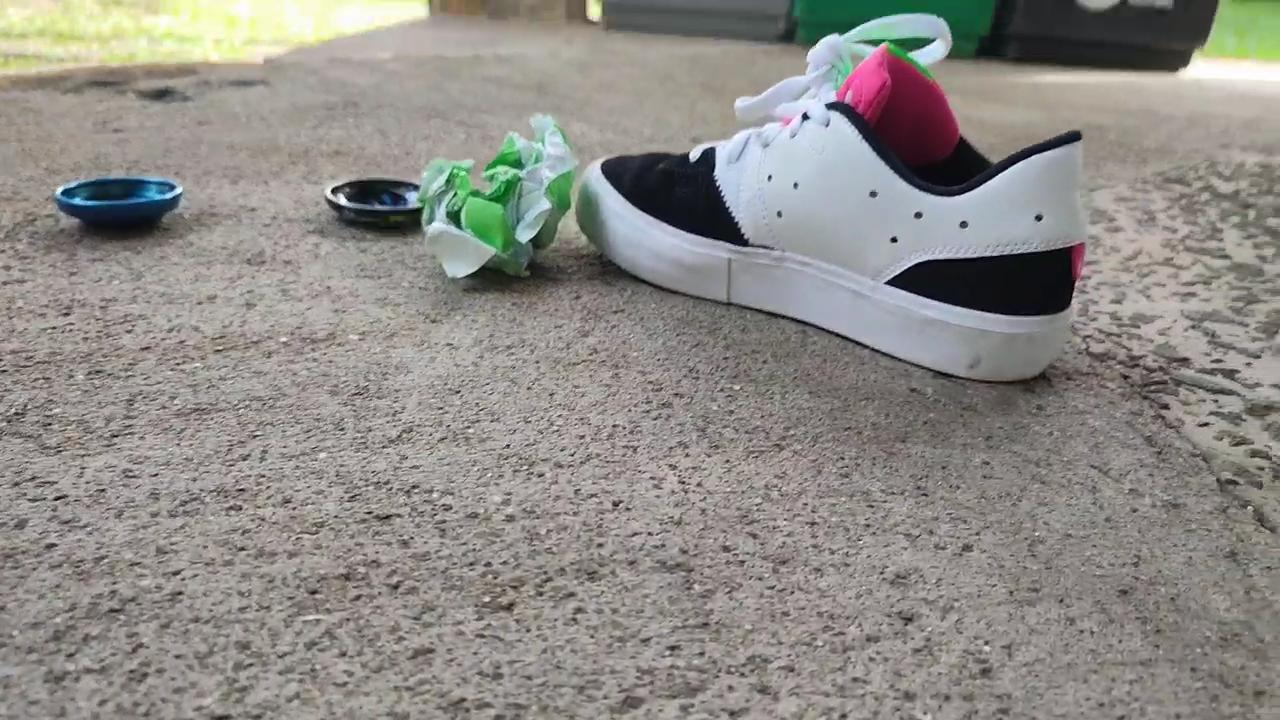Paper: (396, 85, 583, 313)
